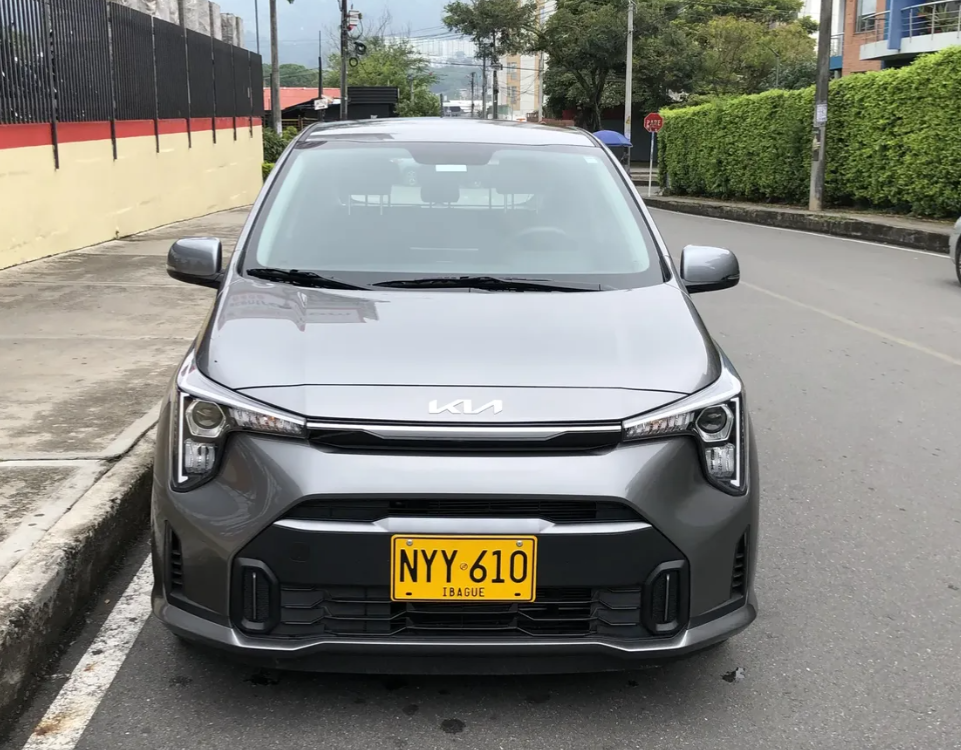placa: (392, 536, 536, 601)
